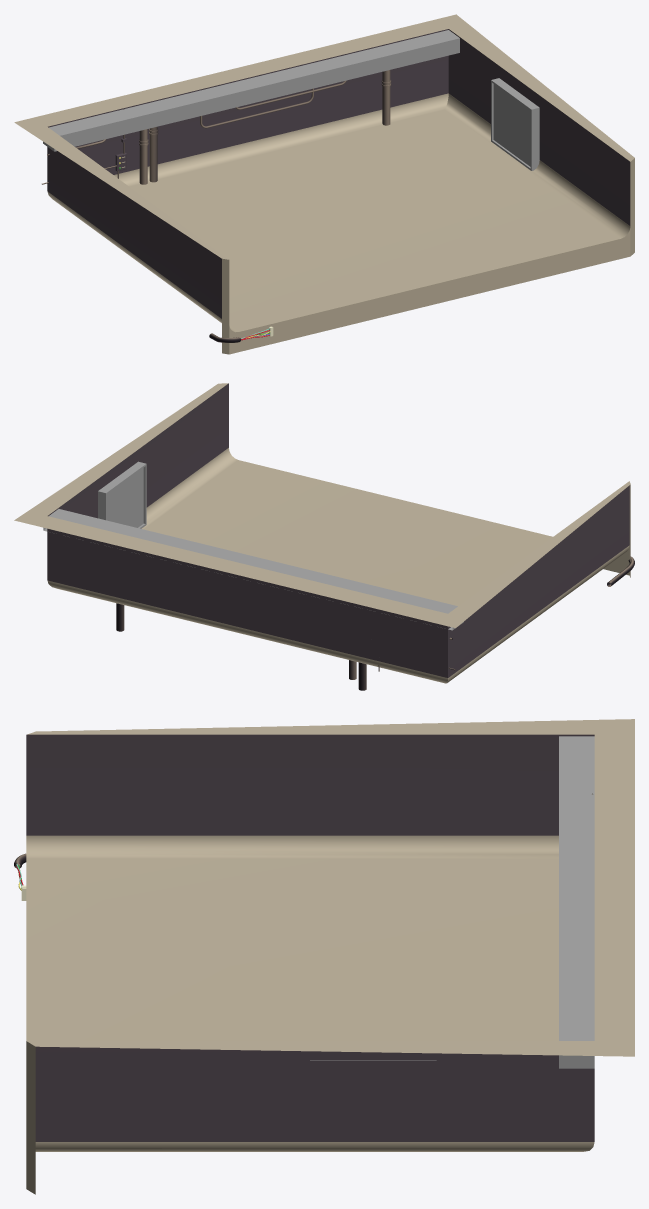
File: SM_room.fbx
The picture shows the model from 3 angles, top to bottom: view 1: azimuth 30°, elevation 25°; view 2: azimuth 150°, elevation 25°; view 3: azimuth 270°, elevation 25°; orthographic projection. The views are drawn at different scales.
Parts seen in each view (by area): view 1: top1; view 2: top1; view 3: top1.
Part boxes in pixels (x1,y1,x2,y2): top1: (14,14,634,354); top1: (14,383,634,690); top1: (14,719,634,1194).
Size of the model in its own units: 128 by 28.03 by 99.37.
